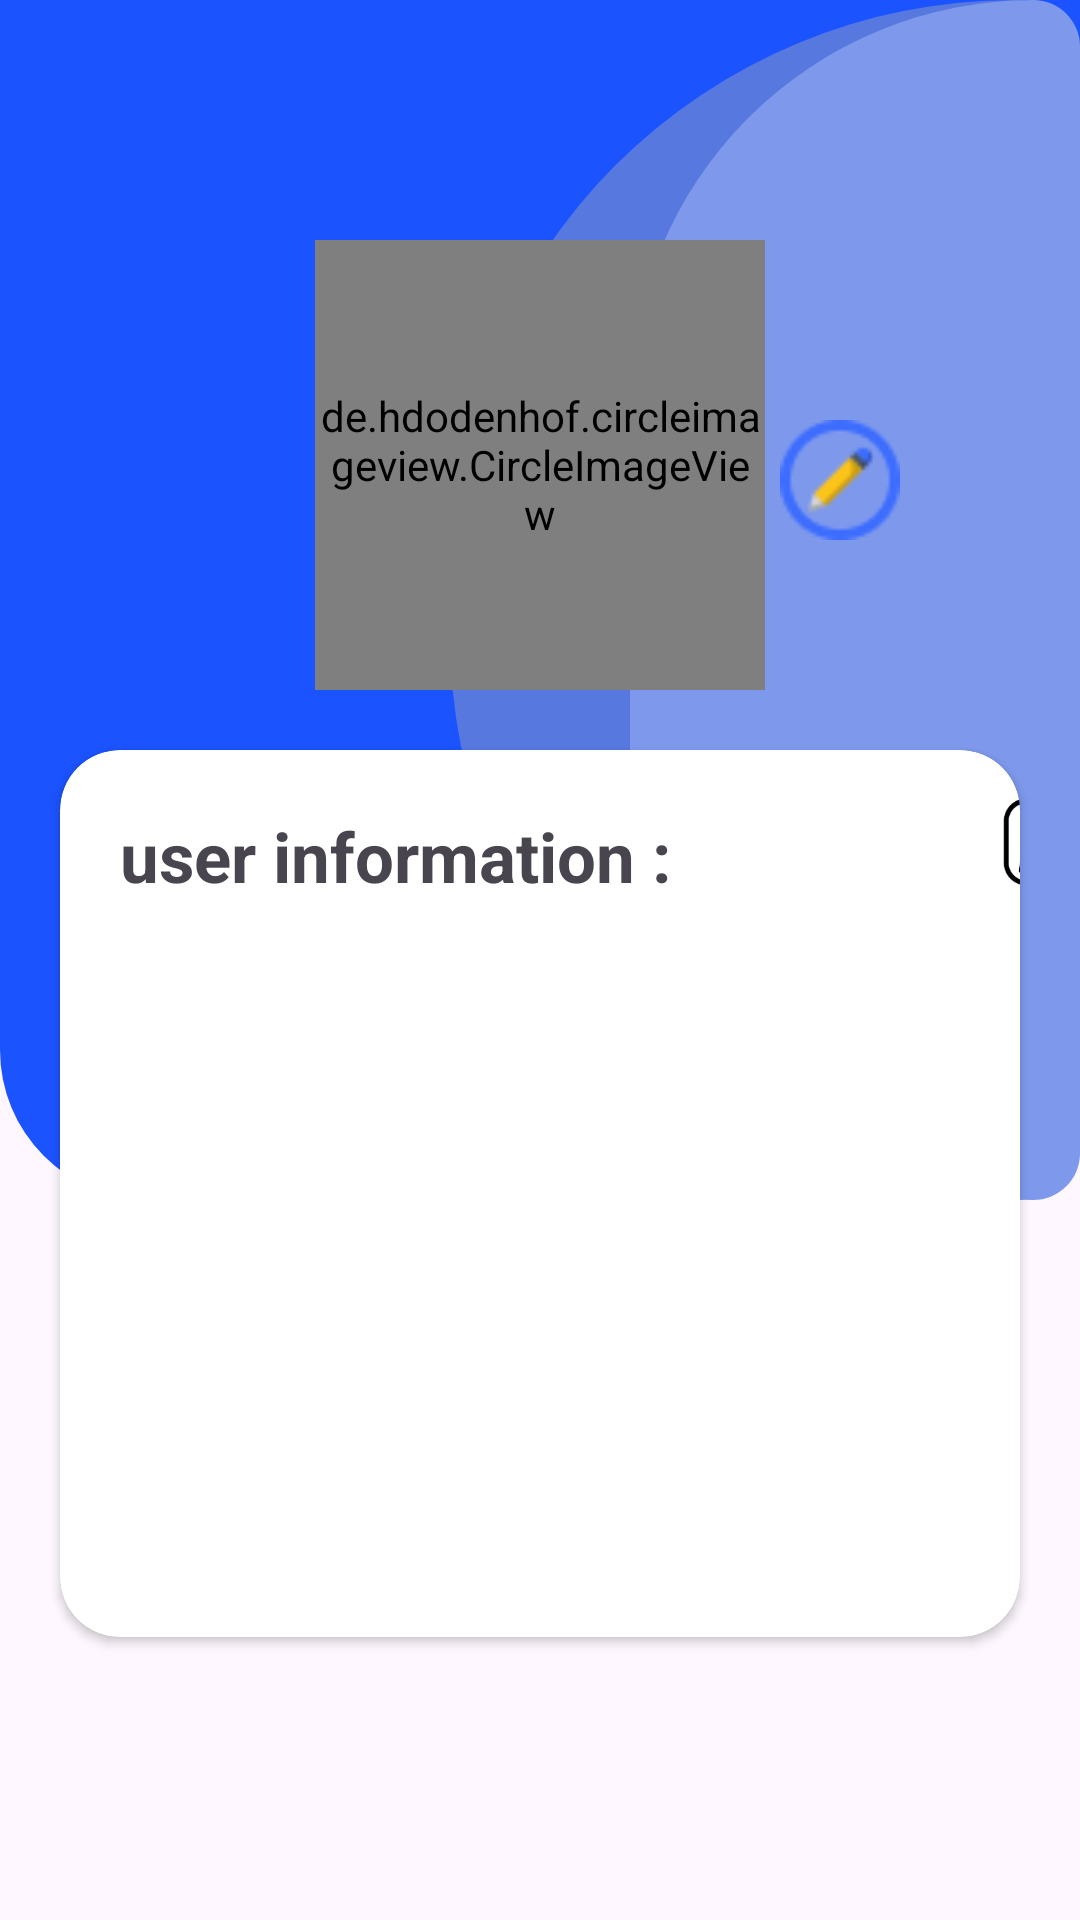

Icon click points for this 1080 x 1920 phone screenshot, format point (x, y):
iconedit: point (840, 480)
